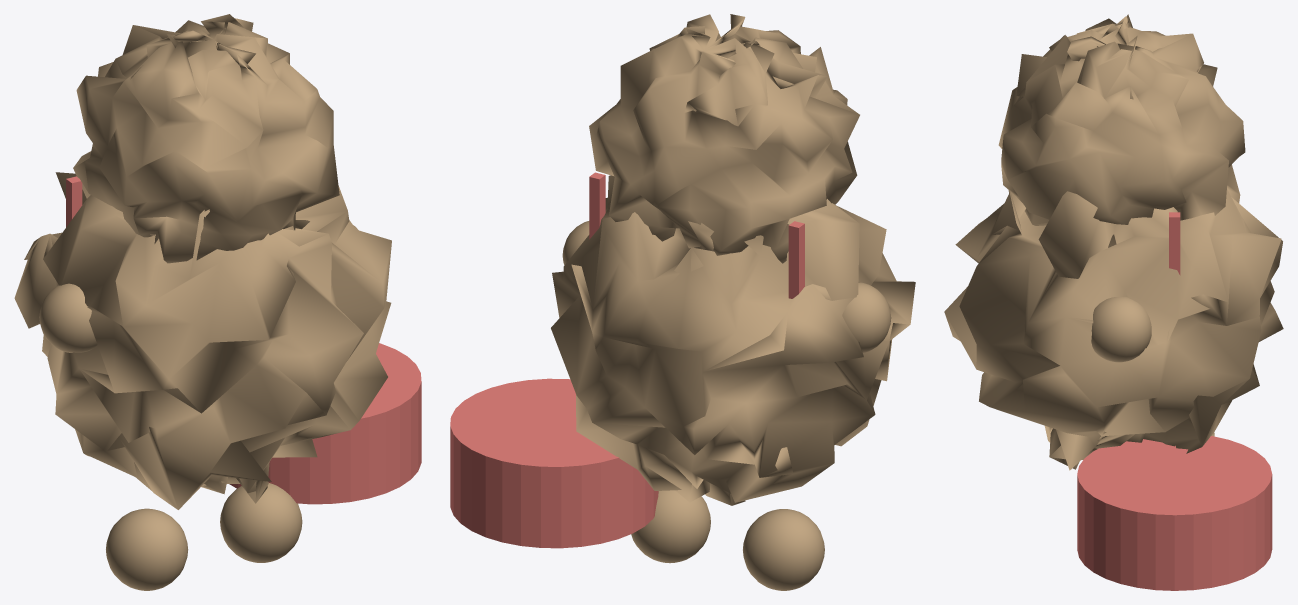
File: clay_plunger_drum_beaver.glb
3 renders of one model, left to right at view 1: azimuth 30°, elevation 25°; view 2: azimuth 150°, elevation 25°; view 3: azimuth 270°, elevation 25°, orthographic. The views are drawn at different scales.
Parts seen in each view (by area): view 1: stick.001; view 2: stick.001; view 3: stick.001.
Part boxes in pixels (x1=…): stick.001: x1=14, y1=14, x2=421, y2=590; stick.001: x1=450, y1=14, x2=915, y2=590; stick.001: x1=944, y1=14, x2=1283, y2=590.
Size of the model in its own units: 1.52 by 2.01 by 1.22.
